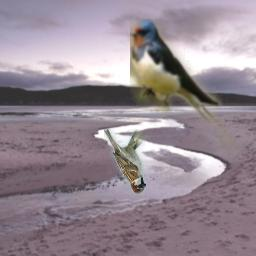Sparrow: (104, 129, 146, 194)
Swallow: (130, 19, 235, 149)
